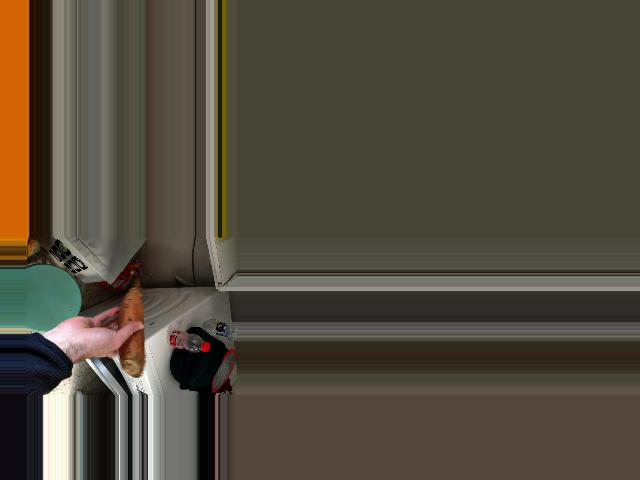sweet_potato: (118, 283, 143, 368)
